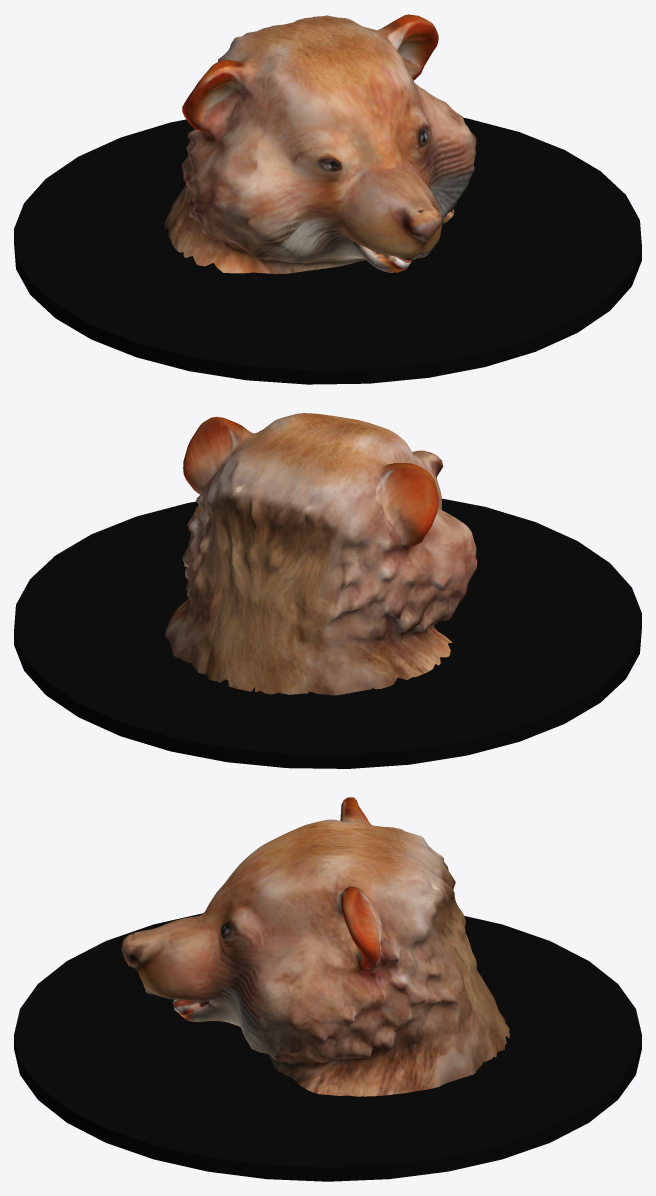
File: vole.glb
3 views of the same model, one above another, from view 1: azimuth 30°, elevation 25°; view 2: azimuth 150°, elevation 25°; view 3: azimuth 270°, elevation 25° (orthographic).
Parts seen in each view (by area): view 1: Cylinder, Mesh_0; view 2: Cylinder, Mesh_0; view 3: Cylinder, Mesh_0.
Part boxes in pixels (box(x1,y1,x2,y2)): Cylinder: box(14, 117, 641, 384); Mesh_0: box(164, 14, 476, 274); Cylinder: box(14, 498, 641, 768); Mesh_0: box(165, 413, 477, 695); Cylinder: box(14, 913, 641, 1181); Mesh_0: box(121, 797, 509, 1096).
Bounding box in the file's own units: 2 × 0.7395 × 2.
2 materials, 1 textured.
